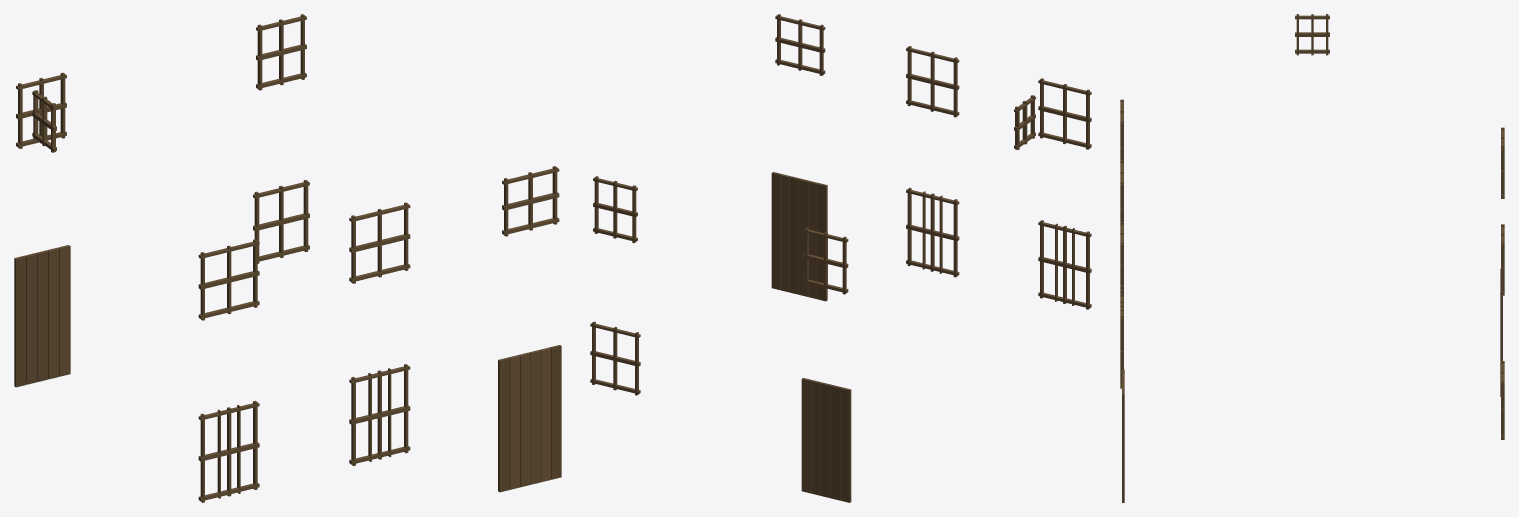
Rendered from SM_Bld_196_Wood.glb.
3 renders of one model, left to right at view 1: azimuth 30°, elevation 25°; view 2: azimuth 150°, elevation 25°; view 3: azimuth 270°, elevation 25°, orthographic. The views are drawn at different scales.
Parts seen in each view (by area): view 1: SM_Bld_196_Wood; view 2: SM_Bld_196_Wood; view 3: SM_Bld_196_Wood.
Boxes of the visible parts, <box> form: SM_Bld_196_Wood: <box>14,14,561,502</box>; SM_Bld_196_Wood: <box>590,14,1091,502</box>; SM_Bld_196_Wood: <box>1120,14,1504,502</box>.
Size of the model in its own units: 6.6 by 6.15 by 6.57.
